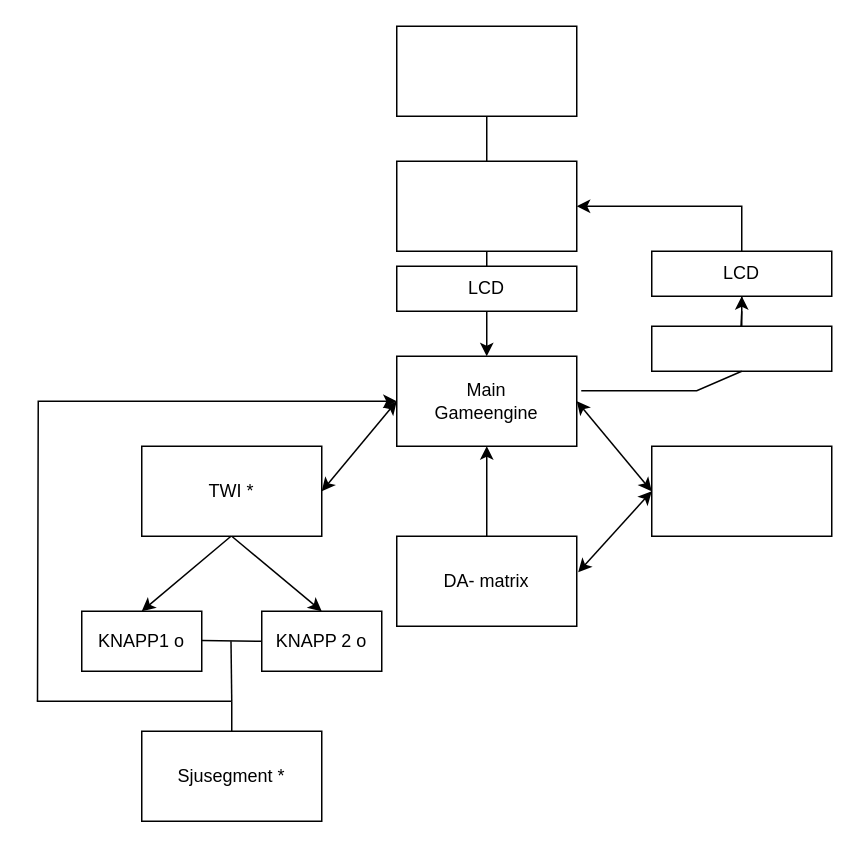
Some shapes in this 858 by 848 pixel diagram are drawn without their labels. Here are the shapes that lost their labels. From the top down, the box of each, then its label:
(395, 25, 577, 116): INIT
(395, 160, 577, 251): Game start
(650, 325, 832, 371): FAIL rutin
(650, 445, 832, 536): SPI *
